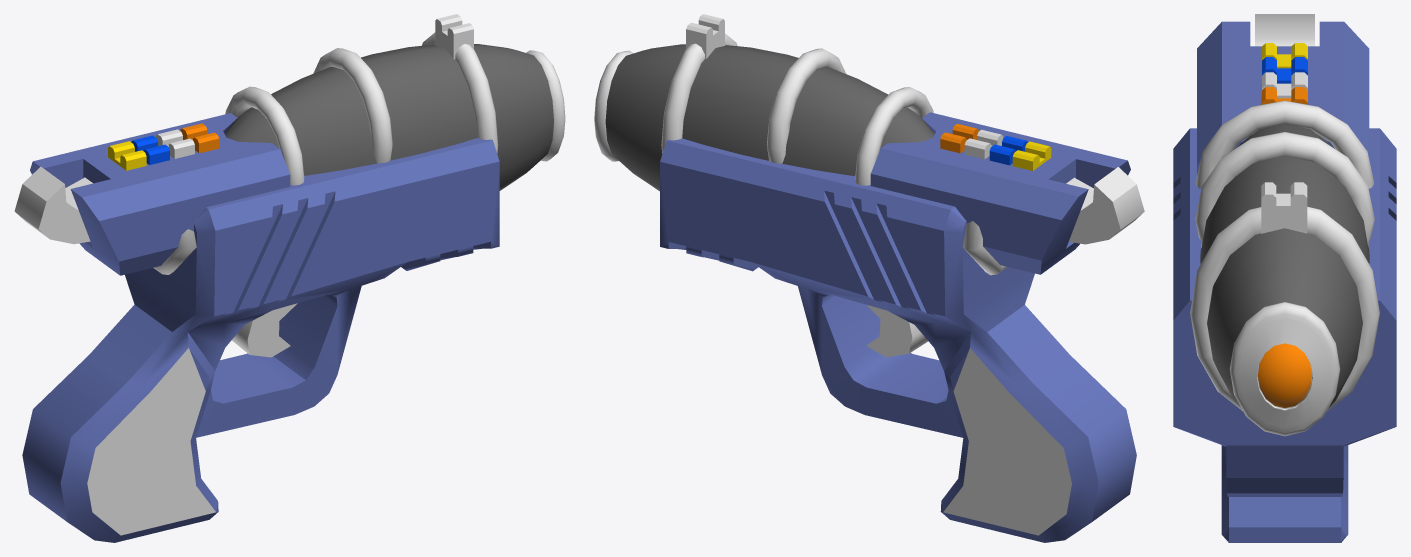
The model's file is BallGun.fbx.
The picture shows the model from 3 angles, left to right: view 1: azimuth 30°, elevation 25°; view 2: azimuth 150°, elevation 25°; view 3: azimuth 270°, elevation 25°; orthographic projection. The views are drawn at different scales.
Visible parts, largest first — view 1: polySurface5, glass part; view 2: polySurface5, glass part; view 3: polySurface5, glass part.
Part boxes in pixels (left/top/right/bottom): polySurface5: left=14, top=14, right=565, bottom=542; glass part: left=225, top=44, right=553, bottom=190; polySurface5: left=594, top=14, right=1144, bottom=542; glass part: left=605, top=44, right=934, bottom=191; polySurface5: left=1173, top=14, right=1396, bottom=542; glass part: left=1200, top=123, right=1369, bottom=406.
Bounding box in the file's own units: 636 × 481 × 189.
